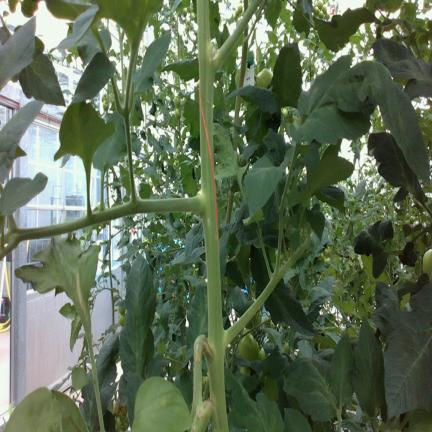6kp_peduncle: (193, 316, 225, 402)
6kp_petiole: (141, 150, 219, 257), (207, 288, 269, 398), (196, 11, 243, 115)
MainStem: (196, 0, 229, 432), (237, 40, 248, 89), (225, 190, 233, 225), (111, 292, 114, 324)
tomato: (239, 333, 259, 361), (256, 68, 272, 88), (423, 249, 432, 277), (258, 347, 265, 360), (118, 314, 125, 326)
